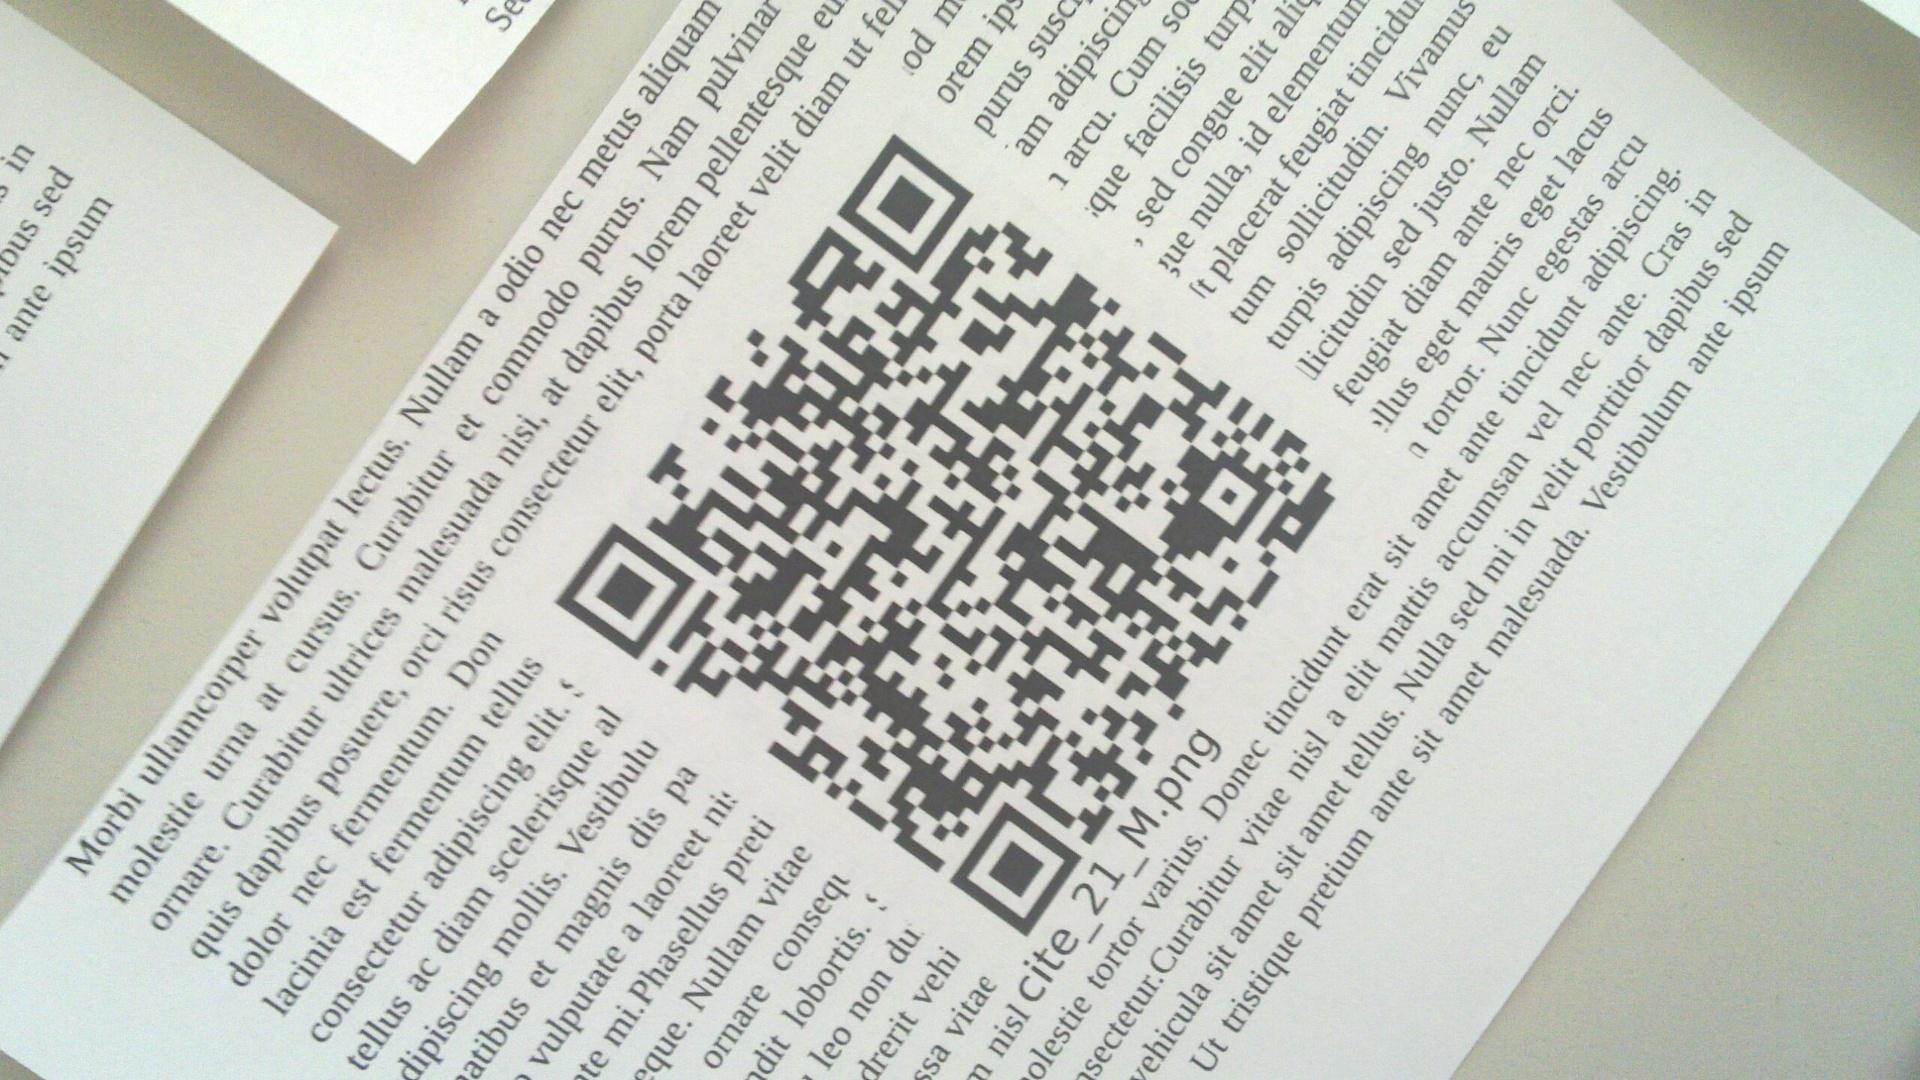Finder pattern: (940, 800, 1084, 932), (833, 135, 975, 266), (555, 530, 687, 655)
